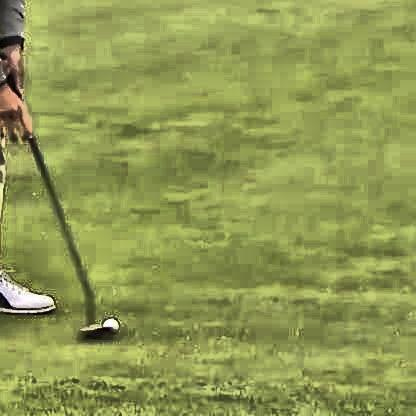golfball: (99, 315, 119, 333)
